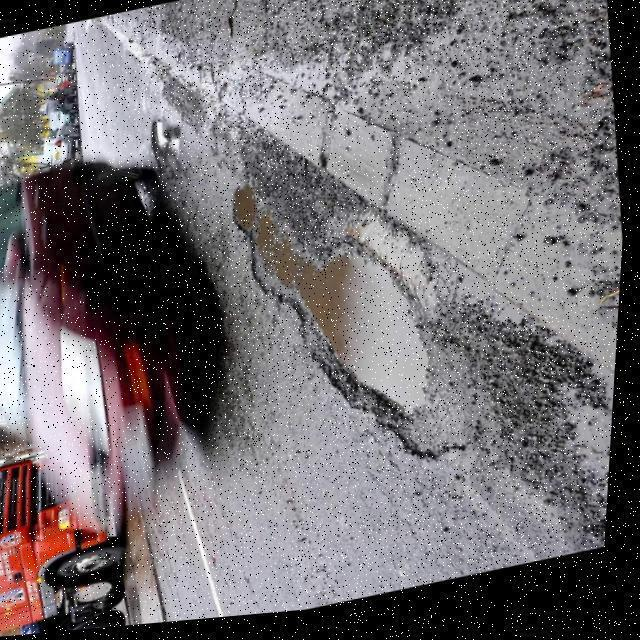Pothole: (220, 178, 496, 472), (146, 114, 185, 162)
